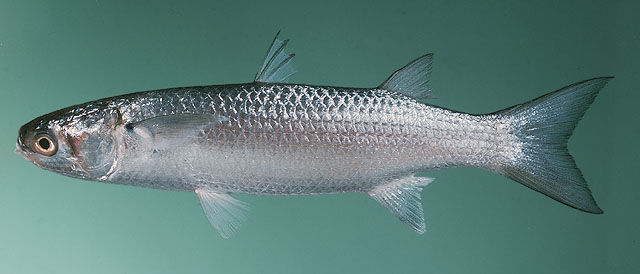fish: (15, 30, 615, 240)
